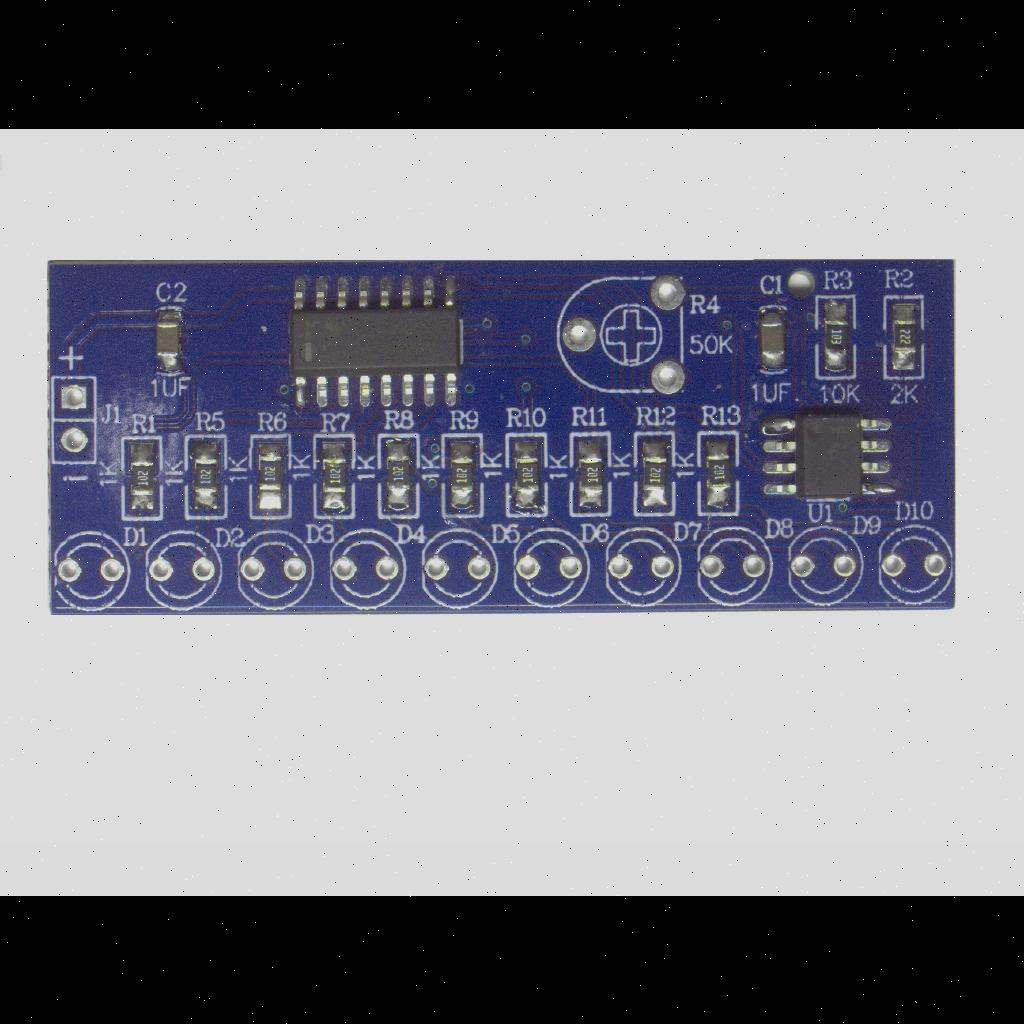OK: (284, 266, 470, 416), (754, 406, 904, 506), (308, 432, 358, 520), (633, 428, 679, 520), (184, 432, 230, 522), (440, 429, 486, 519), (694, 426, 740, 516), (376, 432, 422, 520), (250, 432, 294, 522), (882, 294, 928, 378), (570, 430, 612, 520), (814, 294, 858, 378), (122, 435, 164, 521), (506, 432, 548, 516), (755, 300, 795, 376), (152, 306, 188, 376)
